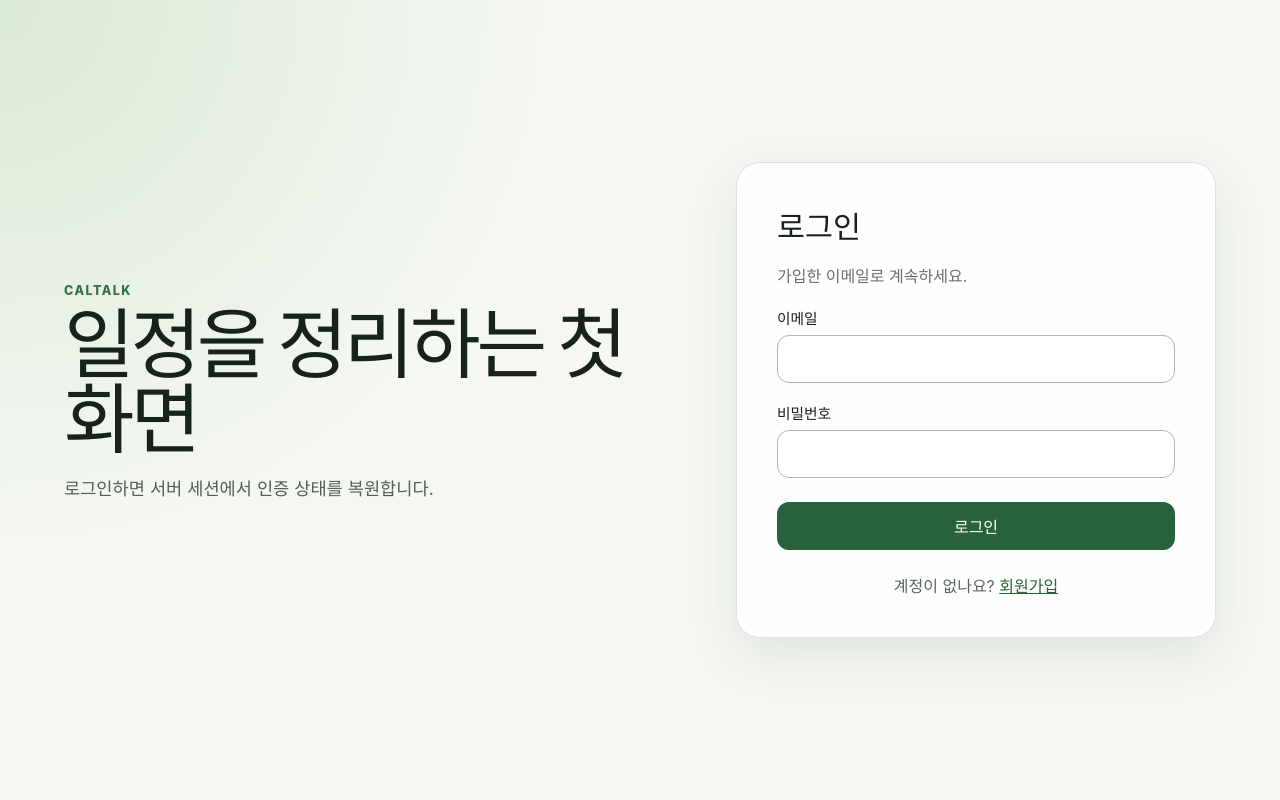
Test case: authentication UI › shows client validation errors without submitting login
The width and height of the screenshot is (1280, 800).
Click the button "로그인" at (976, 526), box [777,502,1175,550]
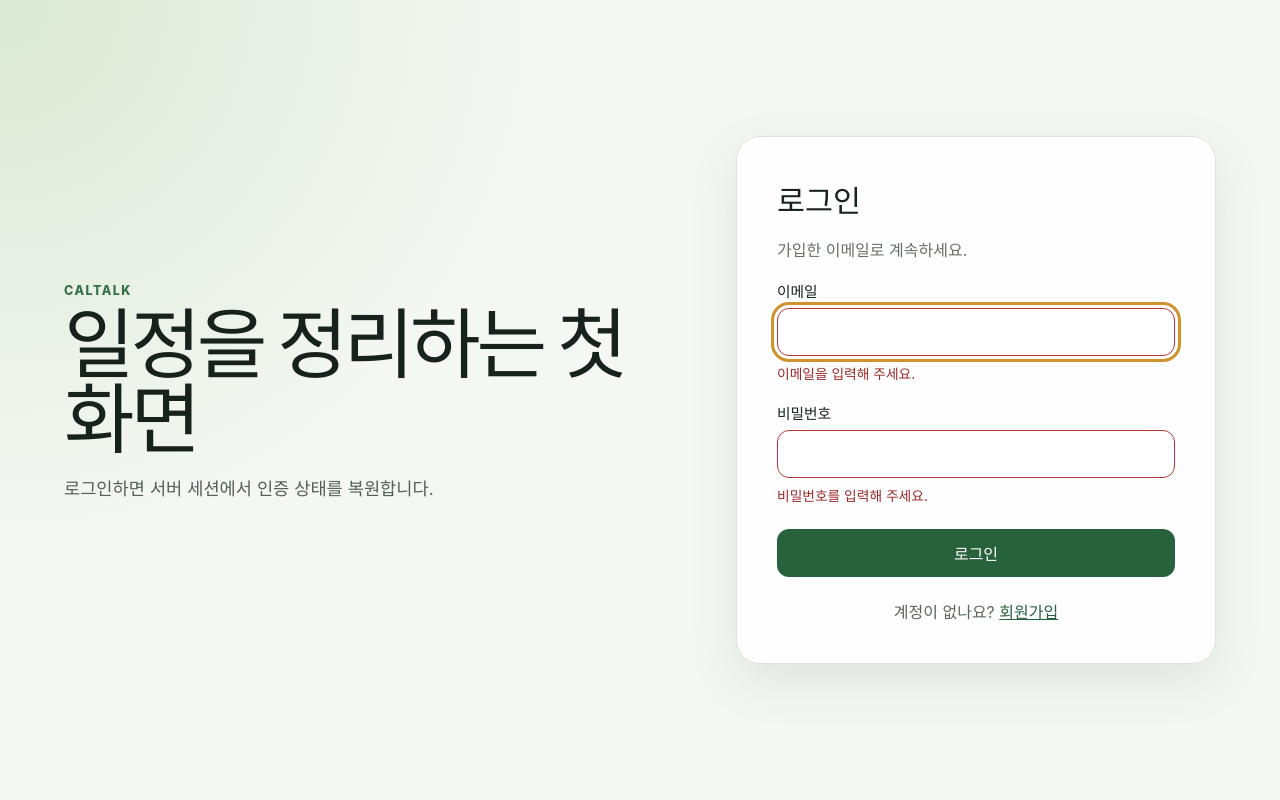
Check: the text "이메일을 입력해 주세요." is shown, box [777,366,915,382]
Check: the text "비밀번호를 입력해 주세요." is shown, box [777,488,928,504]
